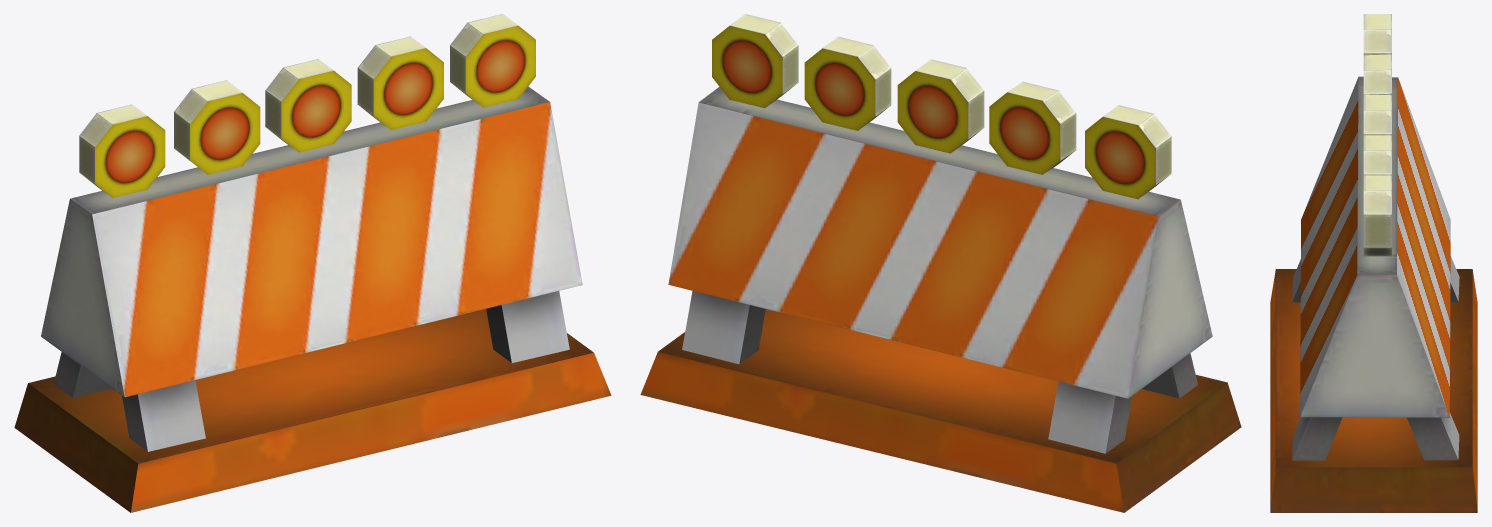
File: barrier.glb
3 views of the same model, side by side, from view 1: azimuth 30°, elevation 25°; view 2: azimuth 150°, elevation 25°; view 3: azimuth 270°, elevation 25° (orthographic). The views are drawn at different scales.
Parts seen in each view (by area): view 1: Cube_006_Cube_006; view 2: Cube_006_Cube_006; view 3: Cube_006_Cube_006.
Part boxes in pixels (box(x1,y1,x2,y2)): Cube_006_Cube_006: box(14, 14, 611, 512); Cube_006_Cube_006: box(640, 14, 1241, 512); Cube_006_Cube_006: box(1270, 14, 1477, 512).
Bounding box in the file's own units: 1.55 × 1.06 × 0.6517.
1 material, 1 textured.
